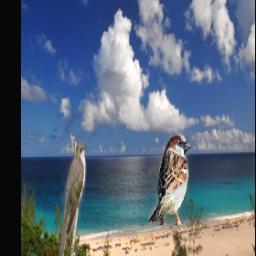Cuckoo: (56, 143, 88, 256)
Sparrow: (149, 132, 192, 225)
